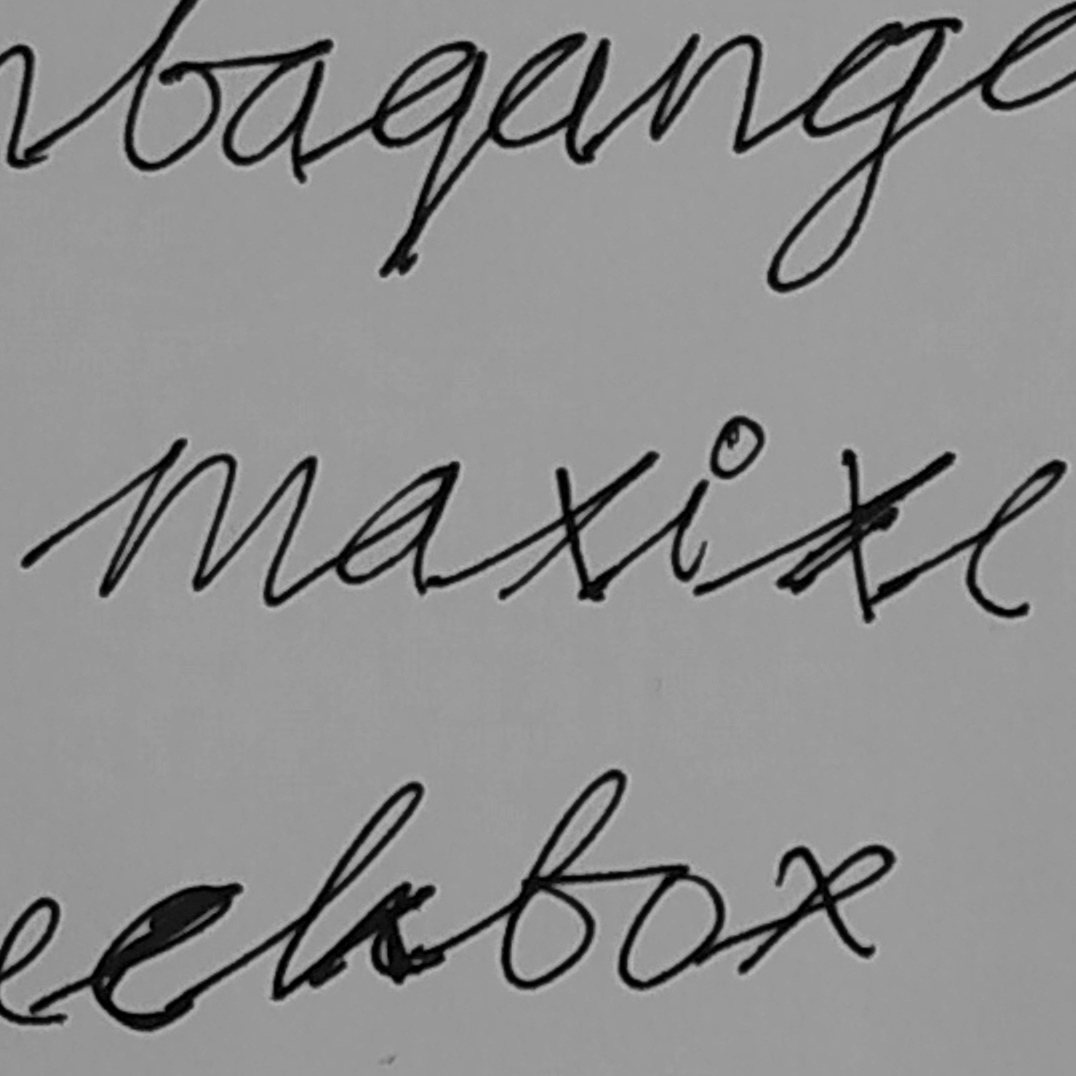a: (331, 455, 462, 598)
e: (963, 453, 1070, 625)
i: (667, 413, 767, 589)
m: (95, 430, 319, 614)
x: (770, 441, 958, 633), (494, 447, 662, 613)
